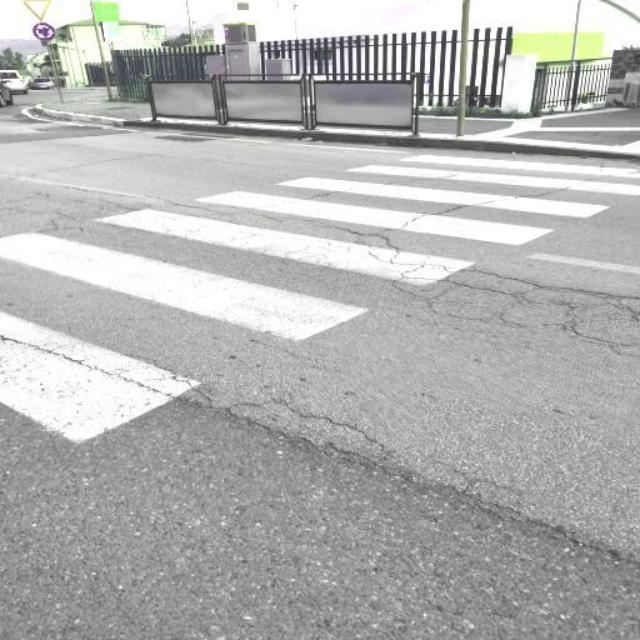sidewalk: (0, 138, 640, 487)
